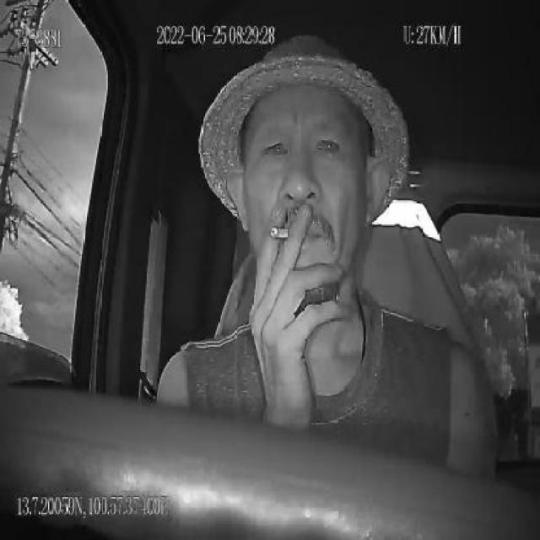smoking: (269, 221, 290, 245)
